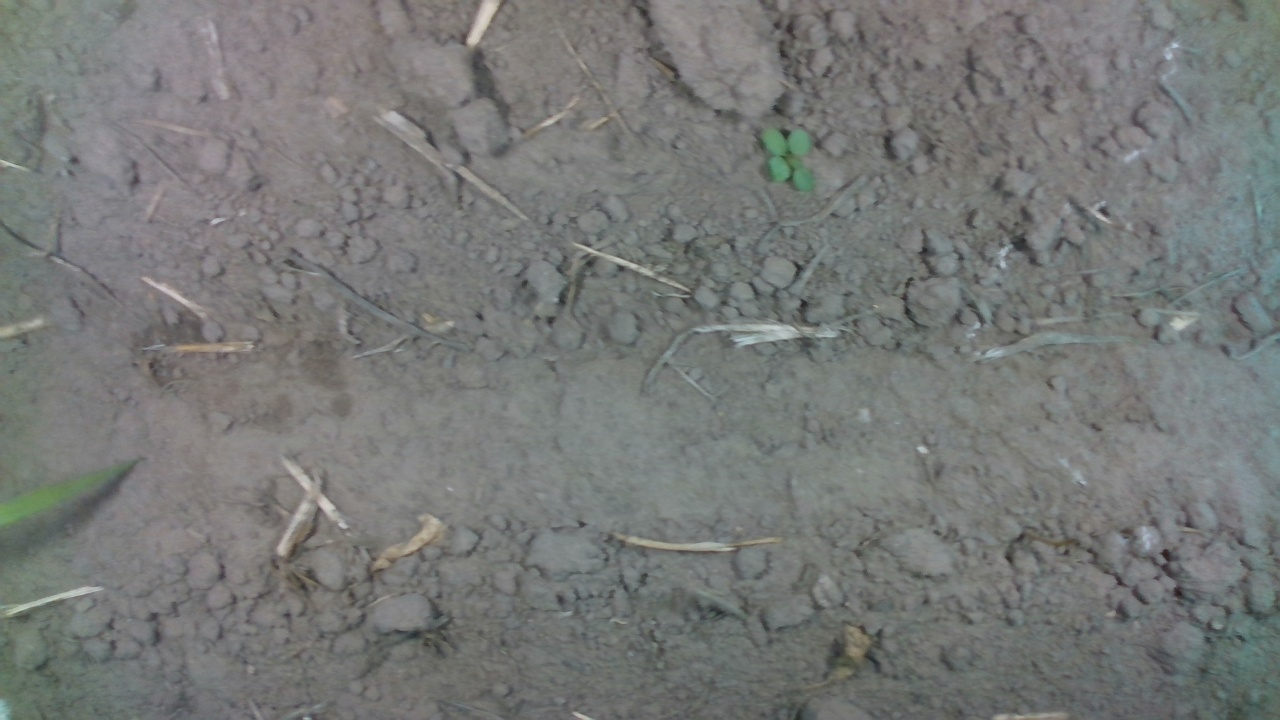weed: (759, 125, 817, 193)
